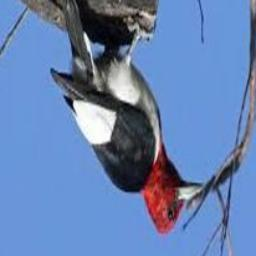Woodpecker: (51, 0, 204, 235)
